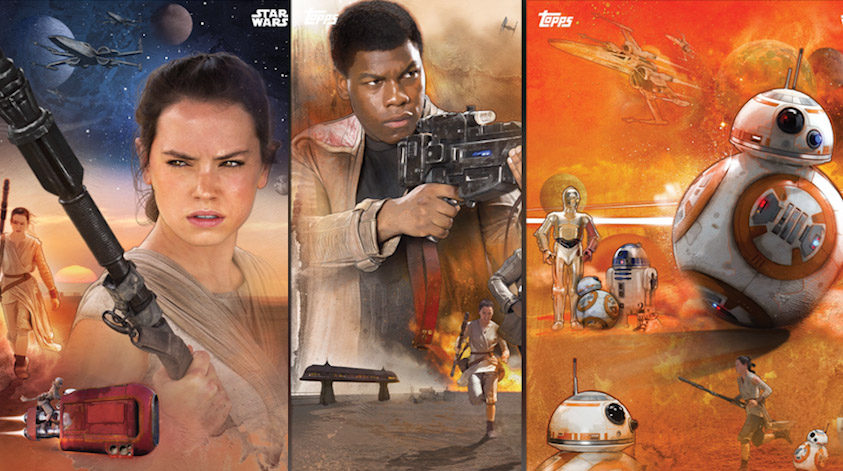bb8: (671, 88, 843, 325)
